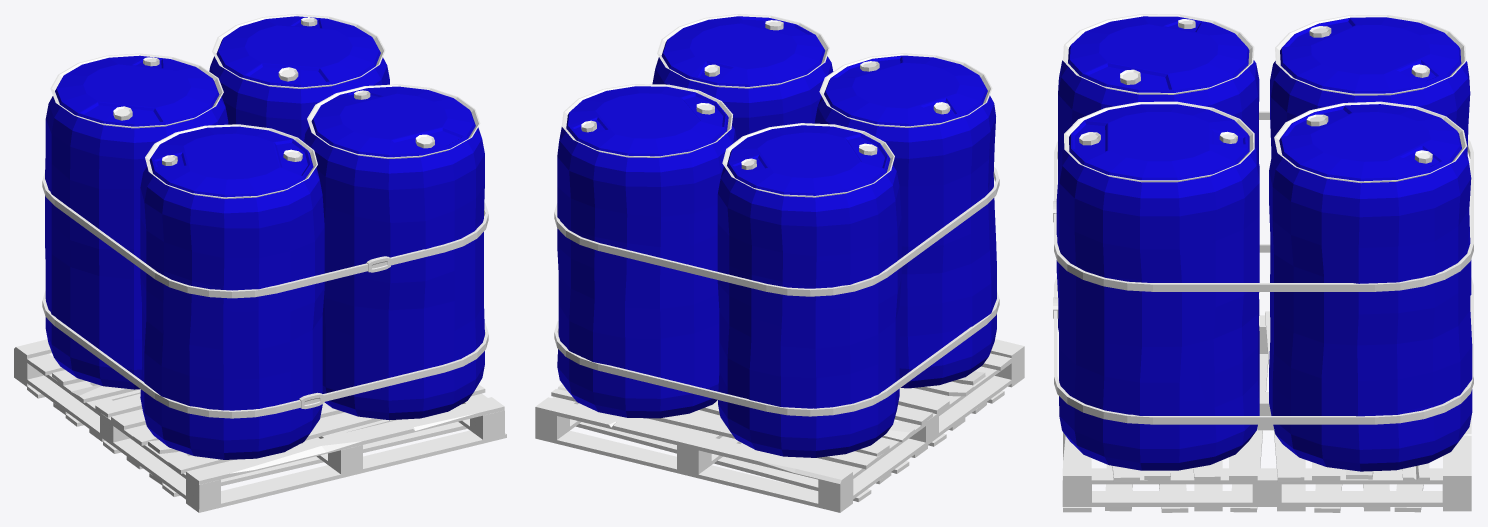
Rendered from SM_Small_Cargo_Cisterns.glb.
3 renders of one model, left to right at view 1: azimuth 30°, elevation 25°; view 2: azimuth 150°, elevation 25°; view 3: azimuth 270°, elevation 25°, orthographic. The views are drawn at different scales.
Parts seen in each view (by area): view 1: SM_Small_Cargo_Cisterns; view 2: SM_Small_Cargo_Cisterns; view 3: SM_Small_Cargo_Cisterns.
Part boxes in pixels (x1=…): SM_Small_Cargo_Cisterns: x1=14, y1=14, x2=506, y2=512; SM_Small_Cargo_Cisterns: x1=535, y1=14, x2=1024, y2=512; SM_Small_Cargo_Cisterns: x1=1053, y1=14, x2=1473, y2=512.
Bounding box in the file's own units: 1 × 0.9178 × 1.03.
